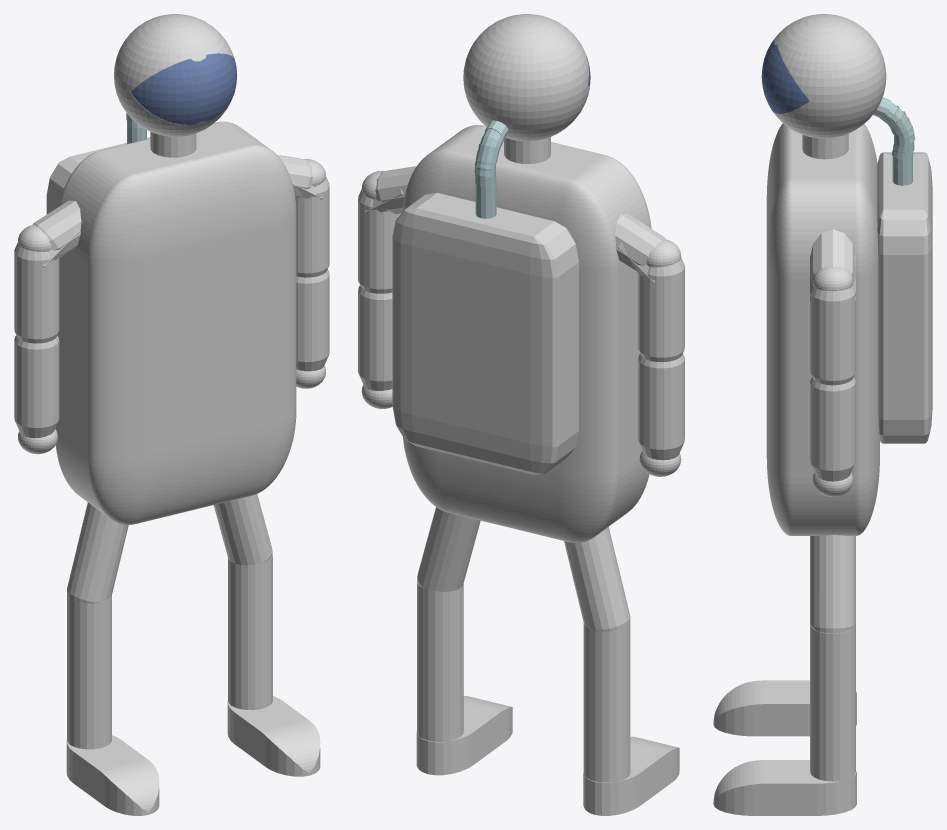
File: Player 1.glb
3 views of the same model, side by side, from view 1: azimuth 30°, elevation 25°; view 2: azimuth 150°, elevation 25°; view 3: azimuth 270°, elevation 25° (orthographic). The views are drawn at different scales.
Parts seen in each view (by area): view 1: Mesh_Mesh_head_geo.001_lambert2SG.001; view 2: Mesh_Mesh_head_geo.001_lambert2SG.001; view 3: Mesh_Mesh_head_geo.001_lambert2SG.001.
Boxes of the visible parts, x1,y1,x2,y2 form: Mesh_Mesh_head_geo.001_lambert2SG.001: [14, 14, 329, 815]; Mesh_Mesh_head_geo.001_lambert2SG.001: [358, 14, 684, 815]; Mesh_Mesh_head_geo.001_lambert2SG.001: [713, 14, 932, 815].
Size of the model in its own units: 71.12 by 162 by 43.07.
